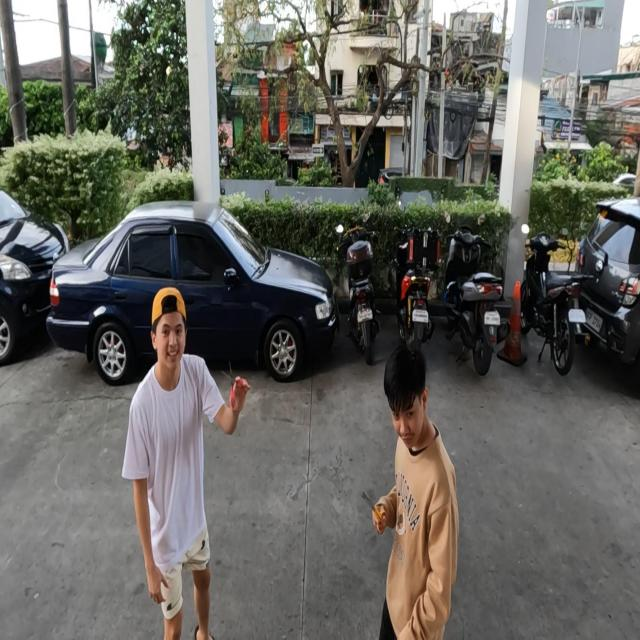scissor: (221, 359, 247, 412), (362, 490, 388, 534)
